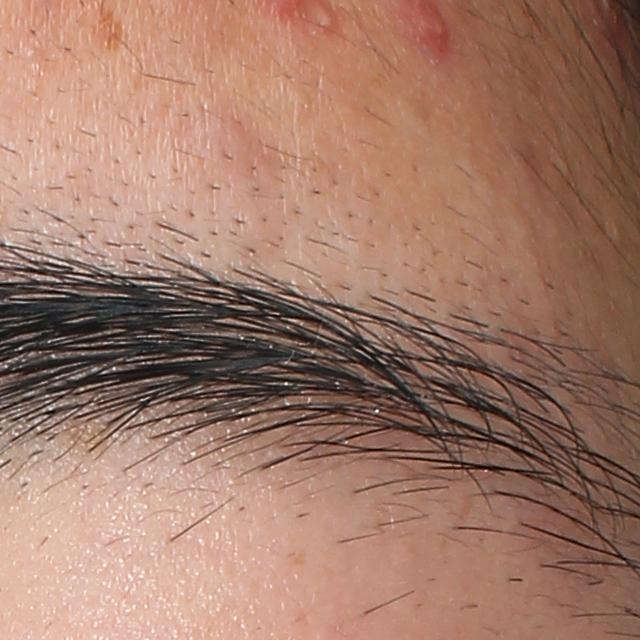pustule: (311, 2, 336, 33)
